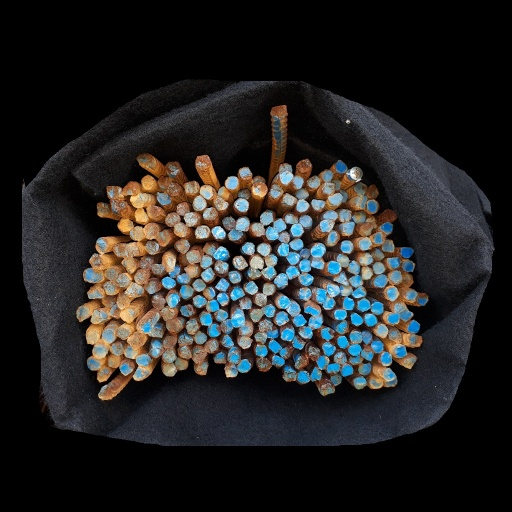dipstick: (304, 300, 321, 316), (270, 105, 286, 119), (110, 199, 126, 213), (144, 223, 158, 239), (76, 306, 90, 322), (91, 308, 105, 324), (96, 237, 109, 254), (126, 284, 144, 296), (142, 175, 156, 190), (123, 181, 138, 195), (118, 218, 133, 232), (107, 186, 123, 199), (123, 257, 136, 273), (165, 161, 179, 175), (252, 182, 266, 196), (211, 226, 225, 240), (133, 367, 147, 381), (162, 336, 176, 350), (230, 287, 244, 301), (214, 197, 229, 210), (187, 249, 200, 264), (148, 279, 161, 294), (135, 269, 148, 284), (103, 281, 118, 294), (373, 274, 388, 287), (137, 154, 153, 166), (195, 226, 211, 238), (203, 207, 217, 220), (165, 213, 179, 226), (125, 243, 139, 256), (90, 255, 103, 269), (176, 240, 189, 254), (120, 309, 133, 323), (180, 285, 193, 299), (200, 268, 214, 281), (215, 278, 229, 291), (166, 319, 180, 332), (274, 273, 287, 287), (308, 316, 322, 329), (296, 159, 311, 171), (96, 202, 108, 217), (135, 207, 147, 222), (333, 273, 348, 285), (320, 383, 335, 395), (184, 181, 197, 194), (168, 183, 181, 196), (176, 201, 189, 214), (251, 223, 264, 236), (116, 274, 129, 287), (152, 295, 165, 308), (167, 294, 180, 307), (234, 256, 247, 269), (93, 345, 106, 358), (110, 342, 123, 355), (162, 350, 175, 363), (299, 287, 312, 300), (275, 311, 288, 324), (224, 365, 237, 378), (258, 358, 271, 371), (268, 340, 281, 353), (295, 356, 308, 369), (293, 336, 306, 349), (322, 342, 335, 355), (353, 376, 366, 389), (407, 320, 420, 333), (157, 192, 171, 204), (144, 241, 158, 253), (262, 267, 276, 279), (136, 354, 150, 366), (178, 347, 192, 359), (193, 351, 207, 363), (382, 209, 396, 221), (311, 246, 325, 258), (358, 238, 372, 250), (390, 271, 402, 285), (327, 282, 339, 296), (299, 273, 313, 285), (255, 344, 267, 358), (113, 242, 124, 257), (118, 294, 129, 309), (246, 268, 261, 279), (178, 335, 193, 346), (160, 230, 170, 246), (87, 288, 103, 298), (196, 155, 209, 167), (225, 176, 237, 189), (270, 185, 282, 198), (236, 199, 249, 211), (260, 212, 273, 224), (200, 185, 212, 198), (193, 196, 205, 209), (158, 176, 171, 188), (130, 195, 143, 207), (184, 213, 197, 225), (175, 223, 187, 236), (131, 226, 143, 239), (266, 227, 278, 240), (296, 199, 308, 212), (203, 242, 215, 255), (214, 247, 227, 259), (215, 260, 227, 273), (242, 242, 254, 255), (257, 243, 270, 255), (193, 295, 206, 307), (136, 321, 149, 333), (87, 358, 100, 370), (128, 336, 141, 348), (175, 357, 188, 369), (205, 340, 218, 352), (208, 324, 221, 336), (206, 300, 219, 312), (352, 211, 365, 223), (339, 209, 351, 222), (342, 222, 355, 234), (291, 224, 303, 237), (358, 223, 371, 235), (327, 261, 340, 273), (340, 240, 352, 253), (358, 298, 370, 311), (245, 281, 257, 294), (238, 336, 251, 348), (281, 329, 294, 341), (297, 371, 309, 384), (299, 326, 312, 338), (321, 328, 334, 340), (348, 344, 361, 356), (349, 331, 362, 343), (376, 324, 388, 337), (389, 330, 401, 343), (410, 334, 422, 347), (365, 313, 377, 326), (282, 194, 296, 205), (104, 268, 118, 279), (228, 229, 242, 240), (180, 305, 194, 316), (149, 344, 160, 358), (366, 184, 377, 198), (400, 247, 414, 258), (352, 287, 366, 298), (387, 287, 398, 301), (381, 352, 392, 366), (307, 176, 319, 188), (84, 269, 96, 281), (223, 216, 235, 228), (186, 265, 198, 277), (193, 279, 205, 291), (250, 257, 262, 269), (203, 287, 215, 299), (116, 327, 128, 339), (299, 215, 311, 227), (382, 240, 394, 252), (360, 253, 372, 265), (373, 262, 385, 274), (371, 302, 383, 314), (262, 283, 274, 295), (239, 297, 251, 309), (250, 310, 262, 322), (231, 315, 243, 327), (278, 296, 290, 308), (238, 360, 250, 372), (383, 368, 395, 380), (371, 341, 383, 353), (351, 313, 363, 325), (147, 206, 160, 217), (140, 256, 151, 269), (177, 273, 190, 284), (162, 277, 175, 288), (264, 255, 277, 266), (161, 308, 174, 319), (103, 330, 114, 343), (163, 365, 176, 376), (214, 310, 227, 321), (323, 182, 334, 195), (311, 199, 324, 210), (328, 194, 341, 205), (290, 239, 303, 250), (311, 259, 324, 270), (338, 254, 349, 267), (349, 261, 360, 274), (402, 274, 413, 287), (417, 293, 428, 306), (343, 297, 354, 310), (287, 266, 298, 279), (255, 293, 266, 306), (221, 320, 232, 333), (239, 325, 252, 336), (293, 315, 306, 326), (271, 356, 284, 367), (283, 370, 296, 381), (317, 356, 328, 369), (258, 321, 272, 331), (362, 331, 372, 345), (240, 167, 252, 178), (280, 172, 292, 183), (218, 187, 229, 199), (163, 259, 174, 271), (236, 219, 248, 230), (274, 219, 285, 231), (201, 256, 212, 268), (102, 296, 114, 307), (277, 243, 288, 255), (229, 271, 240, 283), (86, 333, 98, 344), (98, 388, 110, 399), (186, 321, 197, 333), (195, 332, 207, 343), (200, 313, 211, 325), (335, 160, 346, 172), (347, 169, 358, 181), (320, 220, 332, 231), (327, 232, 338, 244), (380, 222, 392, 233), (288, 252, 299, 264), (300, 260, 311, 272), (373, 248, 384, 260), (387, 257, 399, 268), (323, 297, 334, 309), (263, 305, 274, 317), (288, 304, 299, 316), (310, 369, 321, 381), (334, 309, 346, 320), (341, 364, 353, 375), (359, 363, 370, 375), (361, 350, 373, 361), (337, 336, 348, 348), (119, 365, 132, 375), (124, 348, 137, 358), (372, 233, 385, 243), (316, 290, 326, 303), (309, 346, 319, 359), (149, 328, 163, 337), (326, 364, 340, 373), (279, 232, 290, 243), (107, 356, 118, 367), (355, 183, 366, 194), (228, 352, 239, 363), (293, 176, 303, 188), (321, 169, 331, 181), (152, 264, 164, 274), (196, 364, 208, 374), (214, 353, 226, 363), (367, 201, 377, 213), (402, 261, 414, 271), (362, 267, 372, 279), (350, 276, 362, 286), (267, 326, 277, 338), (222, 336, 232, 348), (396, 345, 406, 357), (407, 356, 417, 368), (387, 313, 399, 323), (285, 214, 298, 223), (296, 190, 309, 199), (357, 196, 366, 209), (324, 210, 337, 219), (400, 312, 413, 321), (238, 188, 249, 198), (97, 372, 108, 382), (366, 217, 377, 227), (255, 332, 266, 342), (280, 349, 291, 359), (330, 375, 341, 385), (279, 162, 291, 171), (110, 306, 119, 318), (340, 286, 352, 295), (334, 353, 346, 362), (370, 379, 382, 388), (350, 356, 363, 364), (406, 291, 416, 301), (178, 254, 187, 265), (300, 249, 310, 258), (171, 266, 179, 277), (394, 304, 405, 312), (252, 176, 265, 182), (386, 380, 397, 387), (334, 180, 340, 191), (342, 190, 347, 202)
